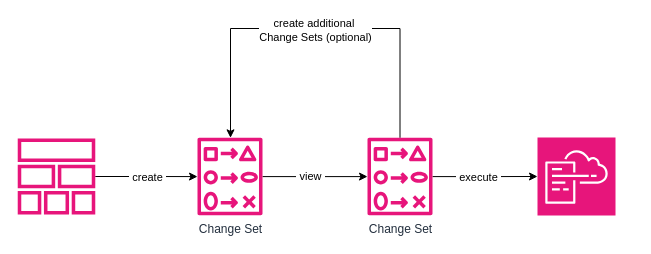
The diagram is 651 pixels wide and 254 high, and some of its shapes have lost their labels. The centre of each missing label's shape, as x and y in pixels:
"AWS CloudFormation" goes at (576,176).
"Original Stack" goes at (56,176).
